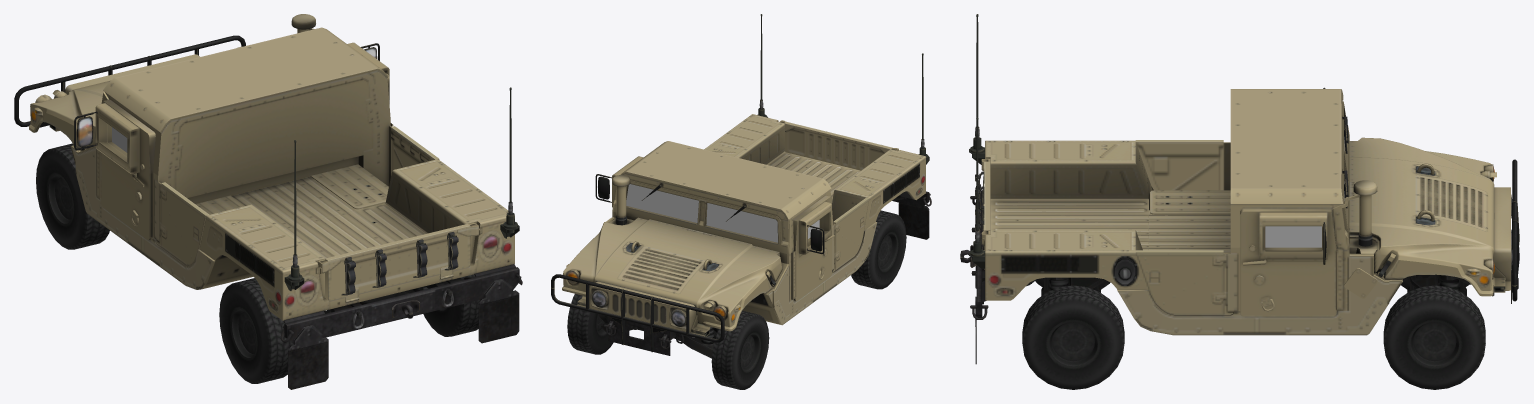
File: Truck_Military_M1152A_01.fbx
3 renders of one model, left to right at view 1: azimuth 30°, elevation 25°; view 2: azimuth 150°, elevation 25°; view 3: azimuth 270°, elevation 25°, orthographic. The views are drawn at different scales.
Parts seen in each view (by area): view 1: mesh_chassis_1152_LOD0, mesh_door_armored_L_front_LOD0, mesh_door_hatch_back_LOD0, mesh_wheel_L_back_LOD0, mesh_wheel_L_front_LOD0, mesh_armorplate_LOD0, mesh_door_L_back_LOD0, mesh_chassis_flap_R_LOD0, mesh_addon_front_grid_LOD0, mesh_chassis_flap_L_LOD0, mesh_addon_belts_LOD0, mesh_wheel_R_back_LOD0 (+3 smaller); view 2: mesh_chassis_1152_LOD0, mesh_wheel_L_front_LOD0, mesh_door_armored_L_front_LOD0, mesh_door_hatch_back_LOD0, mesh_armorplate_LOD0, mesh_wheel_L_back_LOD0, mesh_addon_front_grid_LOD0, mesh_wheel_R_front_LOD0, mesh_door_L_back_LOD0, mesh_chassis_flap_L_LOD0, mesh_addon_chimney_LOD0, mesh_door_armored_R_front_LOD0 (+1 smaller); view 3: mesh_chassis_1152_LOD0, mesh_door_armored_R_front_LOD0, mesh_wheel_R_front_LOD0, mesh_wheel_R_back_LOD0, mesh_armorplate_LOD0, mesh_door_R_back_LOD0, mesh_door_L_back_LOD0, mesh_addon_antenna_LOD0, mesh_addon_chimney_LOD0, mesh_addon_front_grid_LOD0, mesh_addon_plate_LOD0, mesh_door_hatch_back_LOD0 (+1 smaller).
Part boxes in pixels (x1,y1,x2,y2): mesh_chassis_1152_LOD0: (29, 27, 522, 351); mesh_door_armored_L_front_LOD0: (74, 99, 155, 239); mesh_door_hatch_back_LOD0: (318, 223, 478, 302); mesh_wheel_L_back_LOD0: (219, 278, 293, 383); mesh_wheel_L_front_LOD0: (36, 143, 109, 249); mesh_armorplate_LOD0: (75, 92, 215, 289); mesh_door_L_back_LOD0: (161, 182, 209, 265); mesh_chassis_flap_R_LOD0: (478, 295, 519, 343); mesh_addon_front_grid_LOD0: (14, 35, 245, 126); mesh_chassis_flap_L_LOD0: (288, 342, 328, 389); mesh_addon_belts_LOD0: (341, 232, 458, 295); mesh_wheel_R_back_LOD0: (423, 274, 480, 336); mesh_chassis_1152_LOD0: (562, 114, 931, 358); mesh_wheel_L_front_LOD0: (711, 310, 769, 389); mesh_door_armored_L_front_LOD0: (792, 195, 834, 301); mesh_door_hatch_back_LOD0: (779, 120, 898, 170); mesh_armorplate_LOD0: (603, 190, 877, 325); mesh_wheel_L_back_LOD0: (851, 210, 906, 289); mesh_addon_front_grid_LOD0: (551, 274, 724, 352); mesh_wheel_R_front_LOD0: (567, 294, 613, 354); mesh_door_L_back_LOD0: (833, 197, 869, 269); mesh_chassis_flap_L_LOD0: (898, 204, 929, 239); mesh_addon_chimney_LOD0: (612, 175, 630, 225); mesh_door_armored_R_front_LOD0: (595, 156, 643, 207); mesh_chassis_1152_LOD0: (970, 89, 1518, 327); mesh_door_armored_R_front_LOD0: (1240, 208, 1336, 316); mesh_wheel_R_front_LOD0: (1383, 285, 1485, 389); mesh_wheel_R_back_LOD0: (1022, 285, 1124, 389); mesh_armorplate_LOD0: (1117, 126, 1389, 335); mesh_door_R_back_LOD0: (1135, 250, 1223, 314); mesh_door_L_back_LOD0: (1135, 140, 1223, 190); mesh_addon_antenna_LOD0: (969, 14, 984, 268); mesh_addon_chimney_LOD0: (1341, 180, 1377, 246); mesh_addon_front_grid_LOD0: (1512, 159, 1519, 301); mesh_addon_plate_LOD0: (1344, 268, 1377, 298); mesh_door_hatch_back_LOD0: (981, 159, 990, 269).
Bounding box in the file's own units: 320 × 276 × 514.
